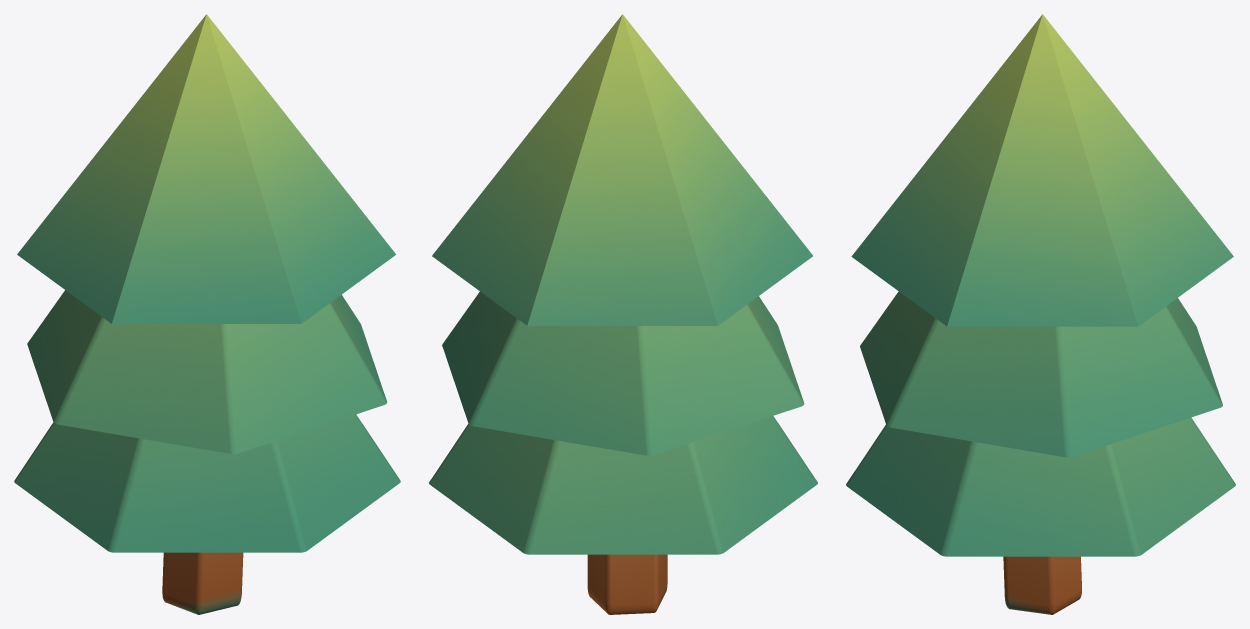
The model's file is tree.glb.
3 renders of one model, left to right at view 1: azimuth 30°, elevation 25°; view 2: azimuth 150°, elevation 25°; view 3: azimuth 270°, elevation 25°, orthographic.
Visible parts, largest first — view 1: Cylinder.003; view 2: Cylinder.003; view 3: Cylinder.003.
Part boxes in pixels (x1,y1,x2,y2): Cylinder.003: [14, 14, 400, 614]; Cylinder.003: [429, 14, 817, 614]; Cylinder.003: [846, 14, 1235, 614].
Size of the model in its own units: 1.08 by 1.81 by 1.09.
Materials: 1 (1 with a texture image).
